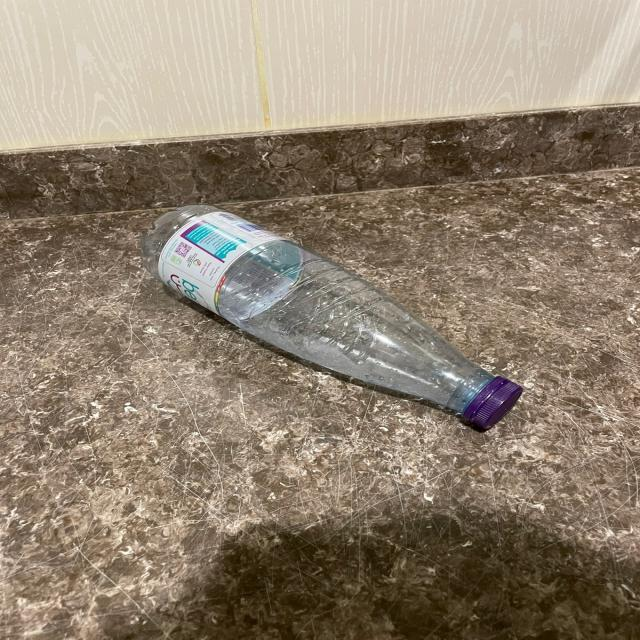chai: (144, 205, 522, 430)
